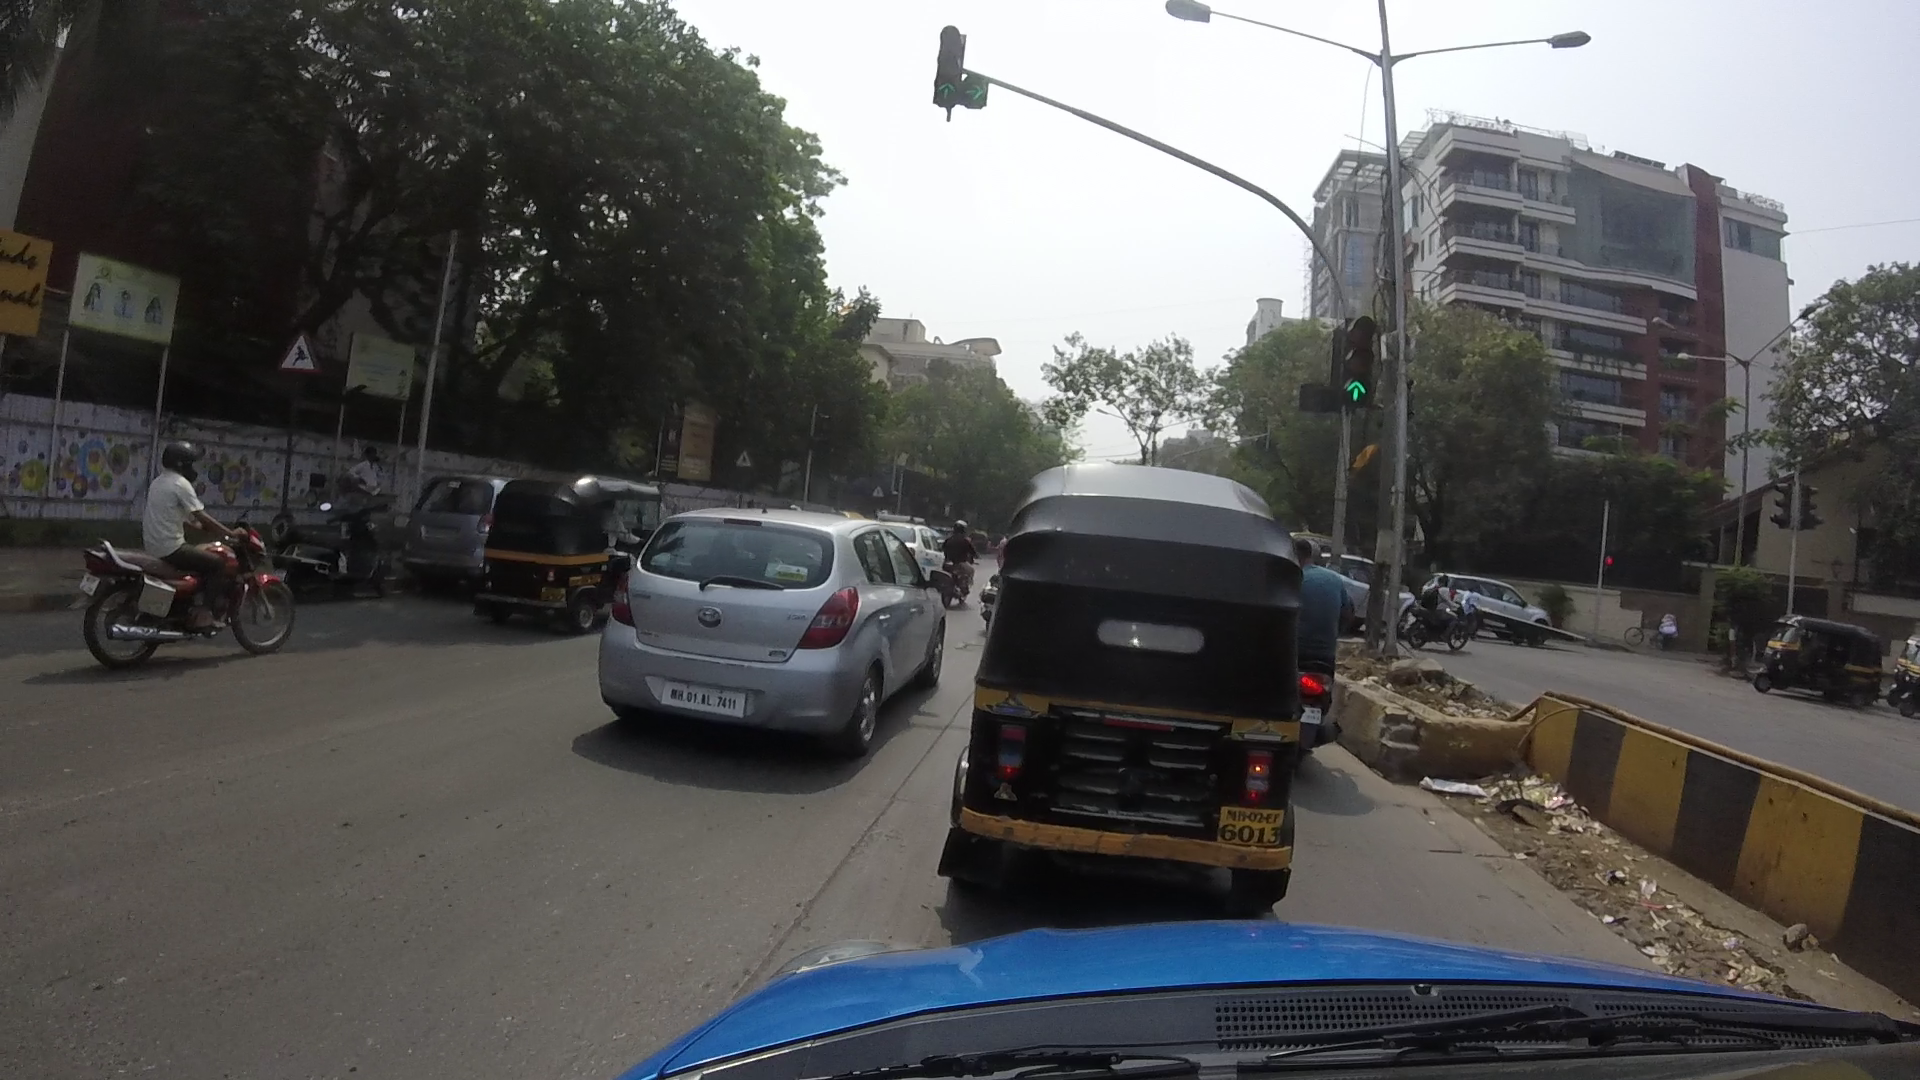bike/scooter: (67, 430, 315, 698)
car: (589, 506, 957, 764), (407, 468, 506, 596)
rickshaw: (947, 458, 1304, 923), (472, 464, 667, 625), (1731, 603, 1892, 735)
